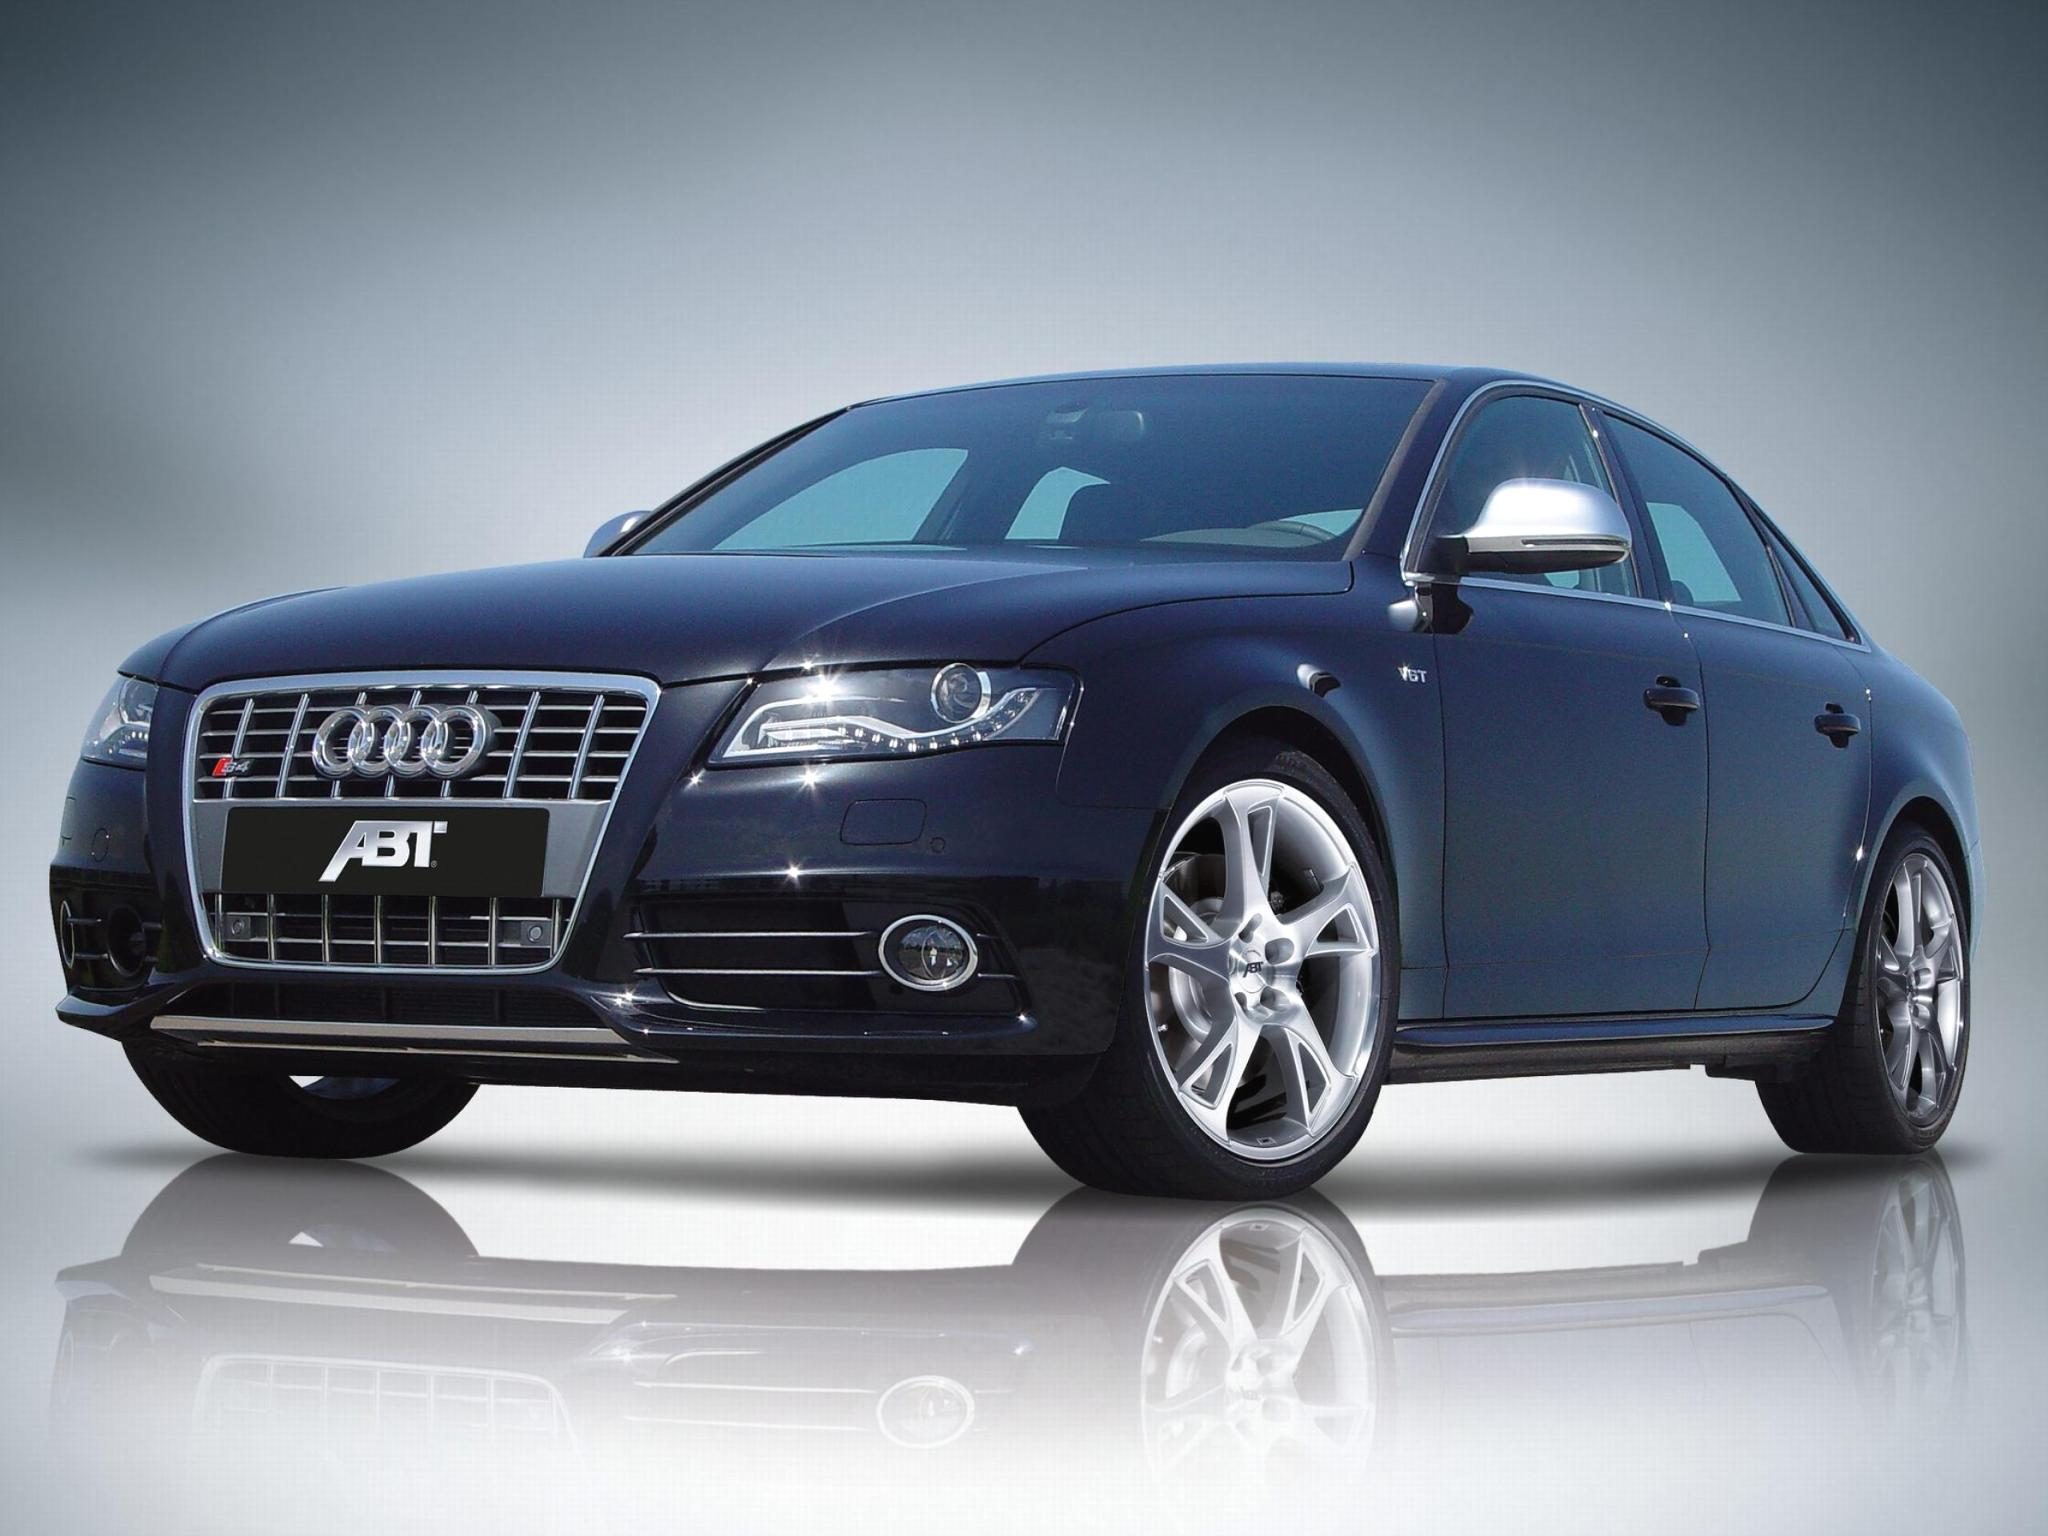Audi: (297, 686, 524, 799)
